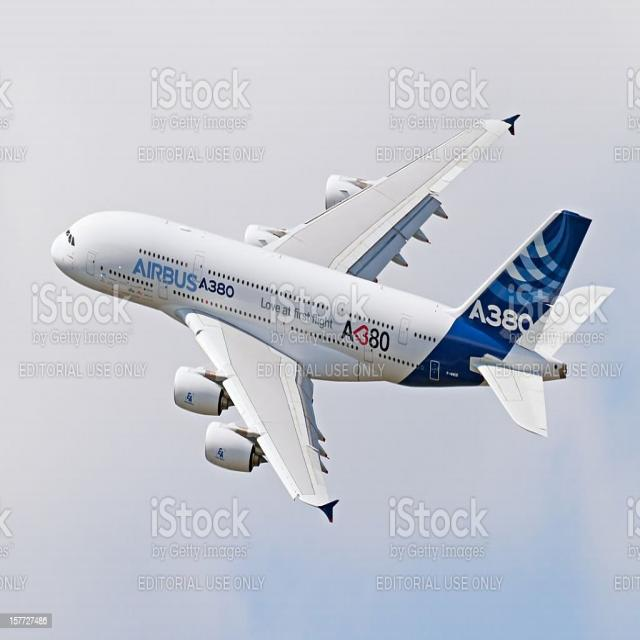A380: (37, 114, 612, 510)
